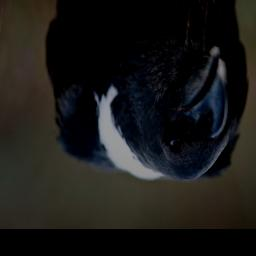Crow: (48, 0, 249, 184)
